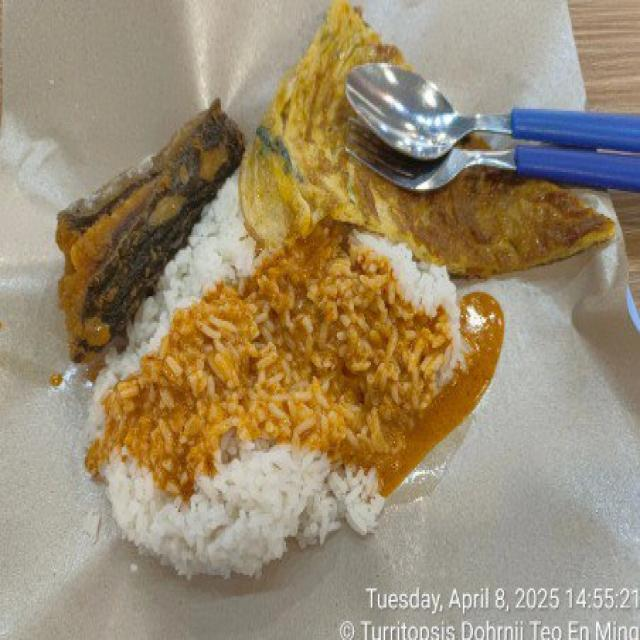Egg: (241, 0, 613, 277), (460, 134, 490, 149)
Rice: (86, 178, 470, 573)
